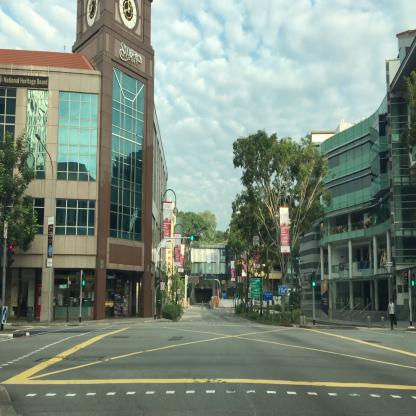green_traffic_light: (190, 235, 198, 240), (312, 272, 315, 285)
